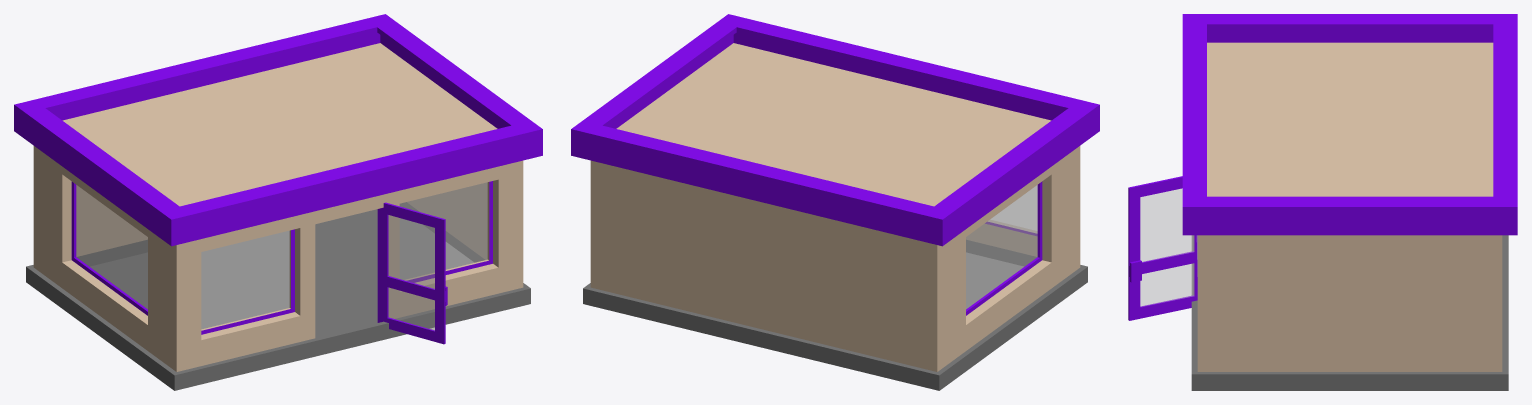
Rendered from Wayfarer Building.glb.
3 renders of one model, left to right at view 1: azimuth 30°, elevation 25°; view 2: azimuth 150°, elevation 25°; view 3: azimuth 270°, elevation 25°, orthographic. The views are drawn at different scales.
Visible parts, largest first — view 1: 3DSMeshMatrix.018, 3DSMeshMatrix.031; view 2: 3DSMeshMatrix.018; view 3: 3DSMeshMatrix.018, 3DSMeshMatrix.031.
Part boxes in pixels (left/top/right/bottom): 3DSMeshMatrix.018: left=14, top=14, right=542, bottom=390; 3DSMeshMatrix.031: left=377, top=202, right=447, bottom=344; 3DSMeshMatrix.018: left=571, top=14, right=1099, bottom=390; 3DSMeshMatrix.018: left=1140, top=14, right=1517, bottom=390; 3DSMeshMatrix.031: left=1128, top=176, right=1197, bottom=320.
Bounding box in the file's own units: 75 × 34 × 63.89.
